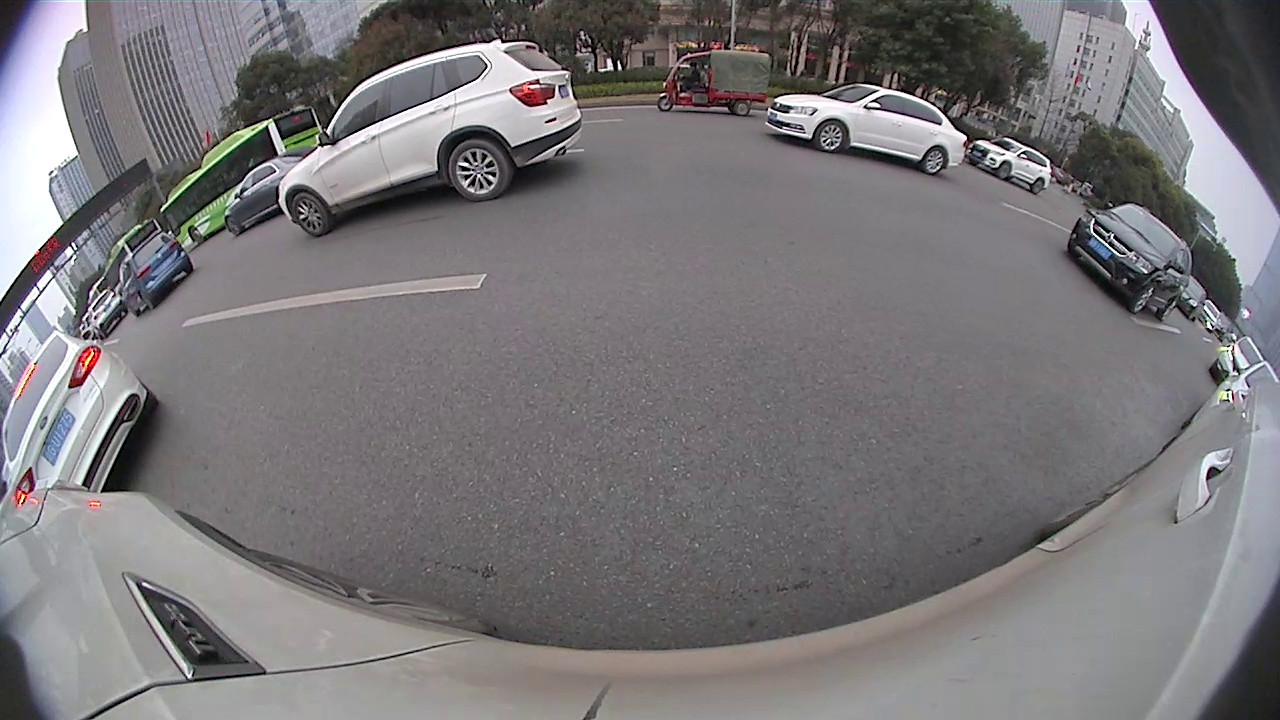bus: (158, 100, 328, 256)
car: (278, 36, 582, 238), (1, 330, 163, 505), (763, 81, 969, 181), (1064, 199, 1196, 324), (222, 159, 306, 240), (122, 233, 193, 315), (969, 134, 1055, 199)
front: (288, 185, 331, 238), (813, 119, 848, 153), (1130, 281, 1158, 315), (656, 93, 673, 112), (998, 164, 1010, 182)
rear: (448, 133, 514, 199), (921, 146, 947, 174), (735, 101, 749, 117), (1032, 181, 1043, 195)
rider: (652, 47, 774, 118)
